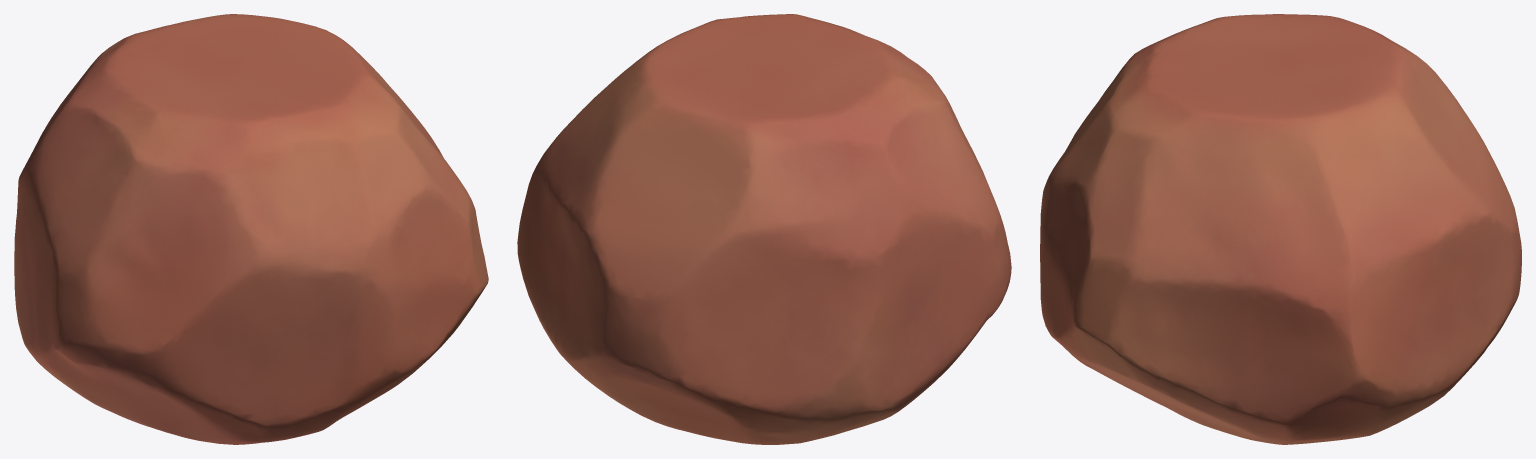
The model's file is kamen-granenyy.glb.
The picture shows the model from 3 angles, left to right: view 1: azimuth 30°, elevation 25°; view 2: azimuth 150°, elevation 25°; view 3: azimuth 270°, elevation 25°; orthographic projection.
Parts seen in each view (by area): view 1: geometry_0; view 2: geometry_0; view 3: geometry_0.
Boxes of the visible parts, x1,y1,x2,y2 form: geometry_0: (14, 14, 488, 444); geometry_0: (517, 14, 1011, 444); geometry_0: (1040, 14, 1521, 444).
Bounding box in the file's own units: 1 × 0.7412 × 0.988.
1 material, 1 textured.
